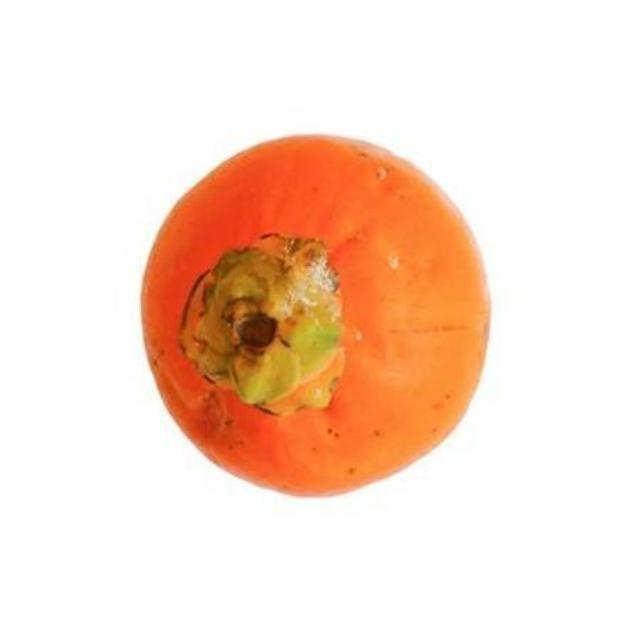good: (144, 135, 492, 500)
